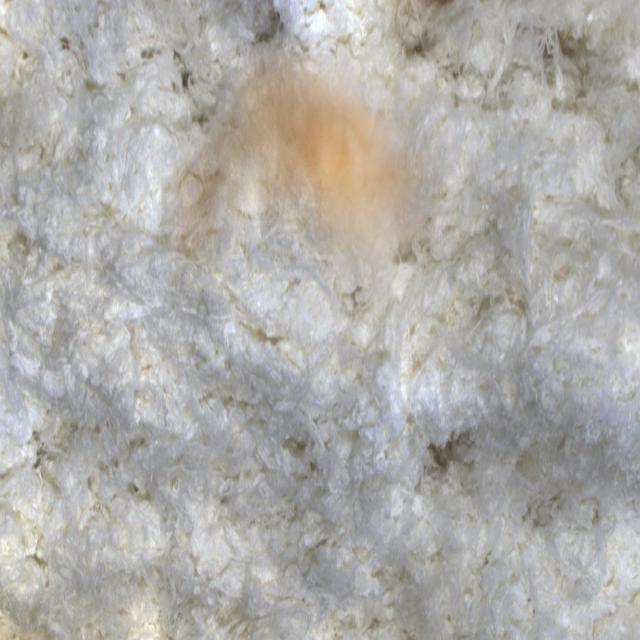dust: (161, 36, 462, 325)
